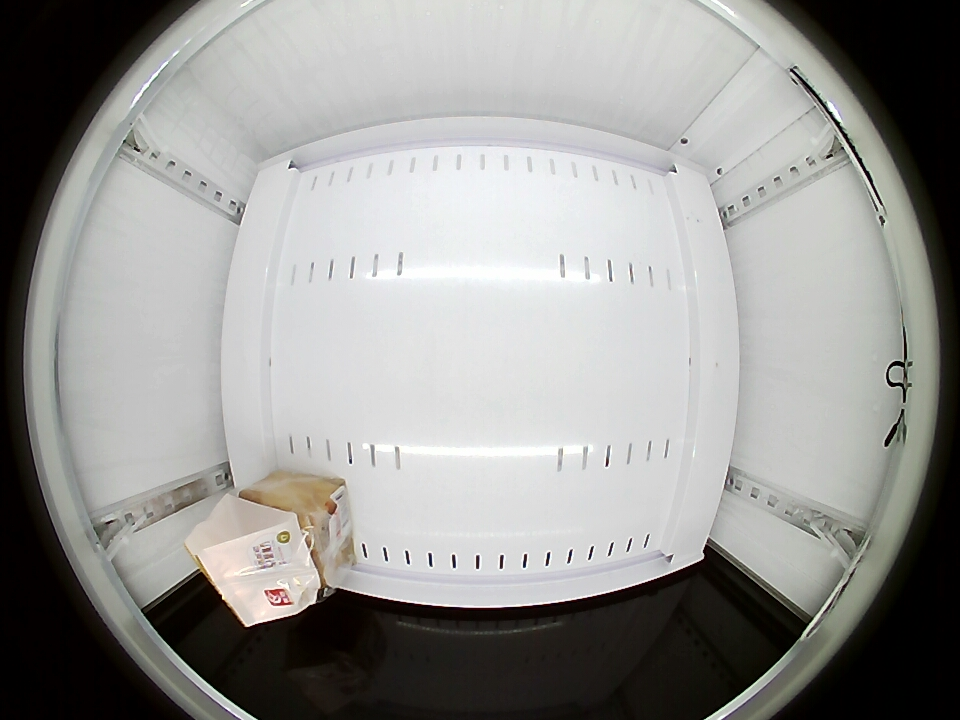zaocanmofang: (189, 488, 338, 627)
